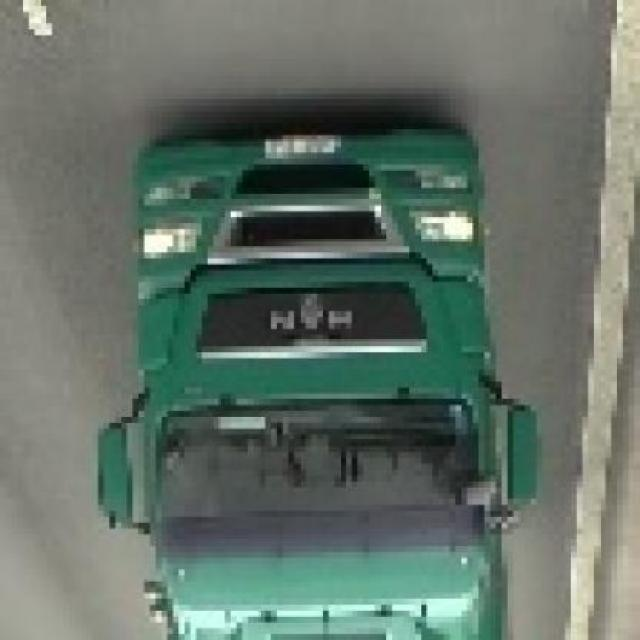truck: (93, 124, 538, 640)
